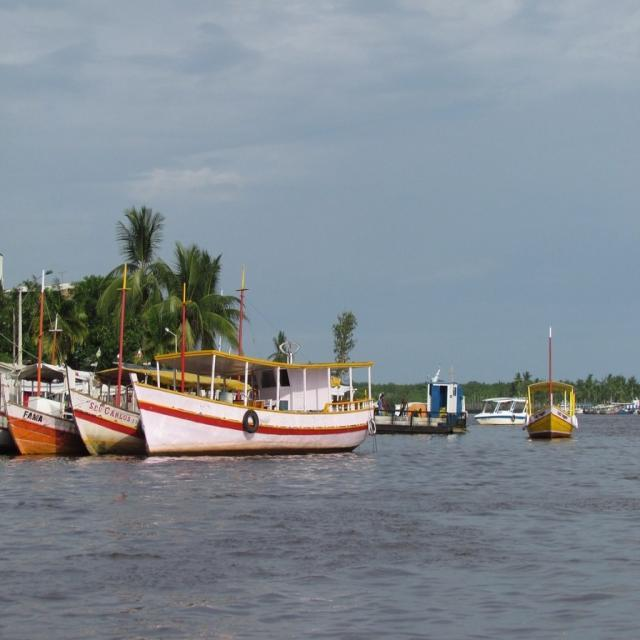boat: (145, 355, 373, 462), (525, 369, 576, 442), (474, 386, 532, 428)
